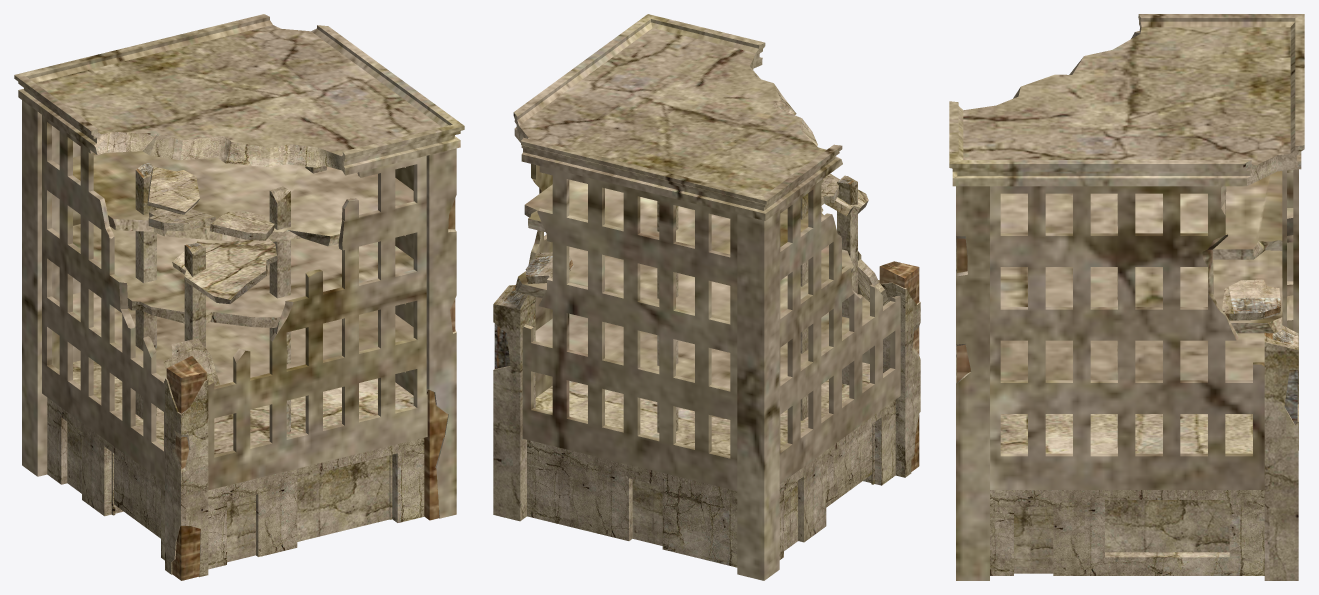
File: Build1_2.fbx
The picture shows the model from 3 angles, left to right: view 1: azimuth 30°, elevation 25°; view 2: azimuth 150°, elevation 25°; view 3: azimuth 270°, elevation 25°; orthographic projection. The views are drawn at different scales.
Visible parts, largest first — view 1: polySurface1539; view 2: polySurface1539; view 3: polySurface1539.
Part boxes in pixels (x1,y1,x2,y2): polySurface1539: (14,14,464,580); polySurface1539: (493,14,920,580); polySurface1539: (949,14,1304,580).
Size of the model in its own units: 10.1 by 13.16 by 10.1.
